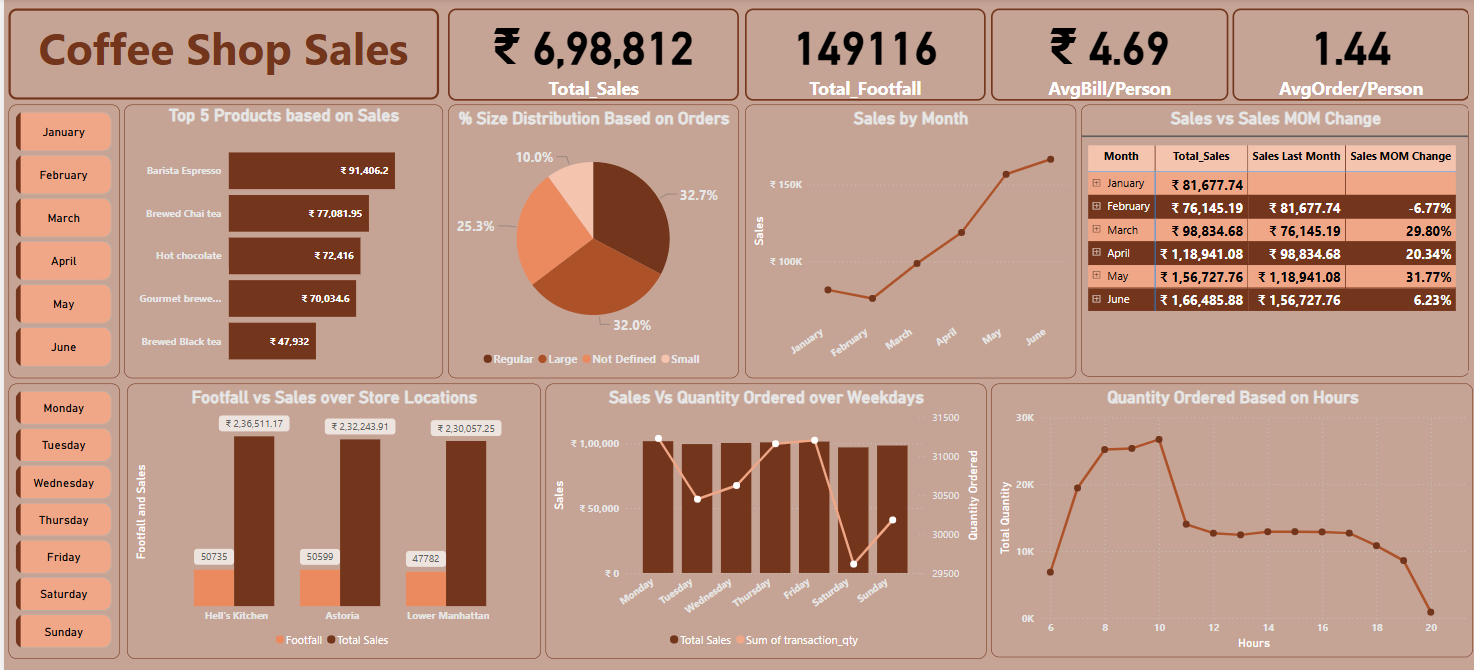

What the dashboard file says about the page in this screenshot:
{"tool":"powerbi","page":{"name":"Page 1","canvas":[1780,820],"ordinal":0},"visuals":[{"type":"lineChart","title":"Quantity Ordered Based on Hours","fields":{"Category":["Transactions.Hour"],"Y":["Sum(Transactions.transaction_qty)"]},"box":[1191.8,465.4,583.3,330.6],"z":0},{"type":"pieChart","title":"% Size Distribution Based on Orders","fields":{"Y":["Sum(Transactions.transaction_qty)"],"Category":["Transactions.Size"]},"box":[537,128.4,351.7,330.6],"z":1000},{"type":"lineClusteredColumnComboChart","title":"Footfall vs Sales over Store Locations","fields":{"Category":["Transactions.store_location"],"Y":["CountNonNull(Transactions.transaction_id)","Sum(Transactions.Total_Amount)"]},"box":[148,465.1,499.7,332.5],"z":2000},{"type":"clusteredBarChart","title":"Top 5 Products based on Sales","fields":{"Category":["Transactions.product_type"],"Y":["Sum(Transactions.Total_Amount)"]},"box":[145.3,128.4,385.3,330.6],"z":3000},{"type":"advancedSlicerVisual","fields":{"Values":["Calendar.Day Name"]},"box":[5.8,465.1,134.5,332.5],"z":4000},{"type":"advancedSlicerVisual","fields":{"Values":["Calendar.Month Name"]},"box":[5.8,128.8,134.5,330.6],"z":5000},{"type":"textbox","box":[6,12,520,110],"z":6000},{"type":"lineClusteredColumnComboChart","title":"Sales Vs Quantity Ordered over Weekdays","fields":{"Category":["Calendar.Day Name"],"Y2":["Sum(Transactions.transaction_qty)"],"Y":["Sum(Transactions.Total_Amount)"]},"box":[653.5,465.1,532.4,332.5],"z":7000},{"type":"card","title":"Total Sales","fields":{"Values":["Transactions.Total_Sales"]},"box":[537,12.6,351.7,111.6],"z":8000},{"type":"card","title":"Total Sales","fields":{"Values":["Transactions.Total_Footfall"]},"box":[894.9,12.6,290.6,111.6],"z":9000},{"type":"card","title":"Total Sales","fields":{"Values":["Transactions.AverageBillPerPerson"]},"box":[1191.8,12.6,286.4,111.6],"z":10000},{"type":"card","title":"Total Sales","fields":{"Values":["Transactions.Average_Order_Per_Person"]},"box":[1484.5,12.6,286.4,111.6],"z":11000},{"type":"areaChart","title":"Sales by Month","fields":{"Category":["Calendar.Month Name"],"Y":["Transactions.Total_Sales"]},"box":[894.9,128.4,400.1,330.6],"z":12000},{"type":"pivotTable","title":"Sales vs Sales MOM Change","fields":{"Rows":["Calendar.Date.Variation.Date Hierarchy.Month","Calendar.Date.Variation.Date Hierarchy.Day"],"Values":["Transactions.Total_Sales","Transactions.Sales Last Month","Transactions.Sales MOM Change"]},"box":[1301.3,128.4,469.6,328.5],"z":13000}]}

Visuals, with their boxes in screenshot pixels (x1, y1, x2, y2), scaled from the page's 1780x820 canvas onto the 1474x670 screenshot:
"Quantity Ordered Based on Hours" lineChart: 987/380/1470/650
"% Size Distribution Based on Orders" pieChart: 445/105/736/375
"Footfall vs Sales over Store Locations" lineClusteredColumnComboChart: 123/380/536/652
"Top 5 Products based on Sales" clusteredBarChart: 120/105/439/375
advancedSlicerVisual - Calendar.Day Name: 5/380/116/652
advancedSlicerVisual - Calendar.Month Name: 5/105/116/375
textbox: 5/10/436/100
"Sales Vs Quantity Ordered over Weekdays" lineClusteredColumnComboChart: 541/380/982/652
"Total Sales" card: 445/10/736/101
"Total Sales" card: 741/10/982/101
"Total Sales" card: 987/10/1224/101
"Total Sales" card: 1229/10/1466/101
"Sales by Month" areaChart: 741/105/1072/375
"Sales vs Sales MOM Change" pivotTable: 1078/105/1466/373
